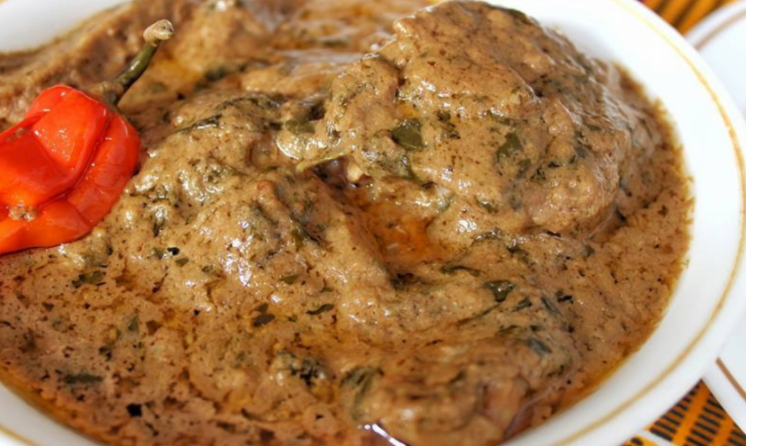pigment: (1, 90, 92, 233)
sauce dah: (188, 36, 566, 411)
